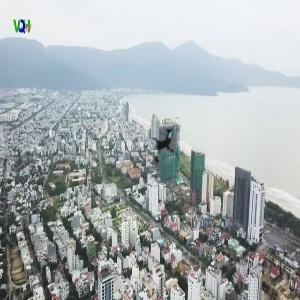drone: (130, 107, 206, 183)
